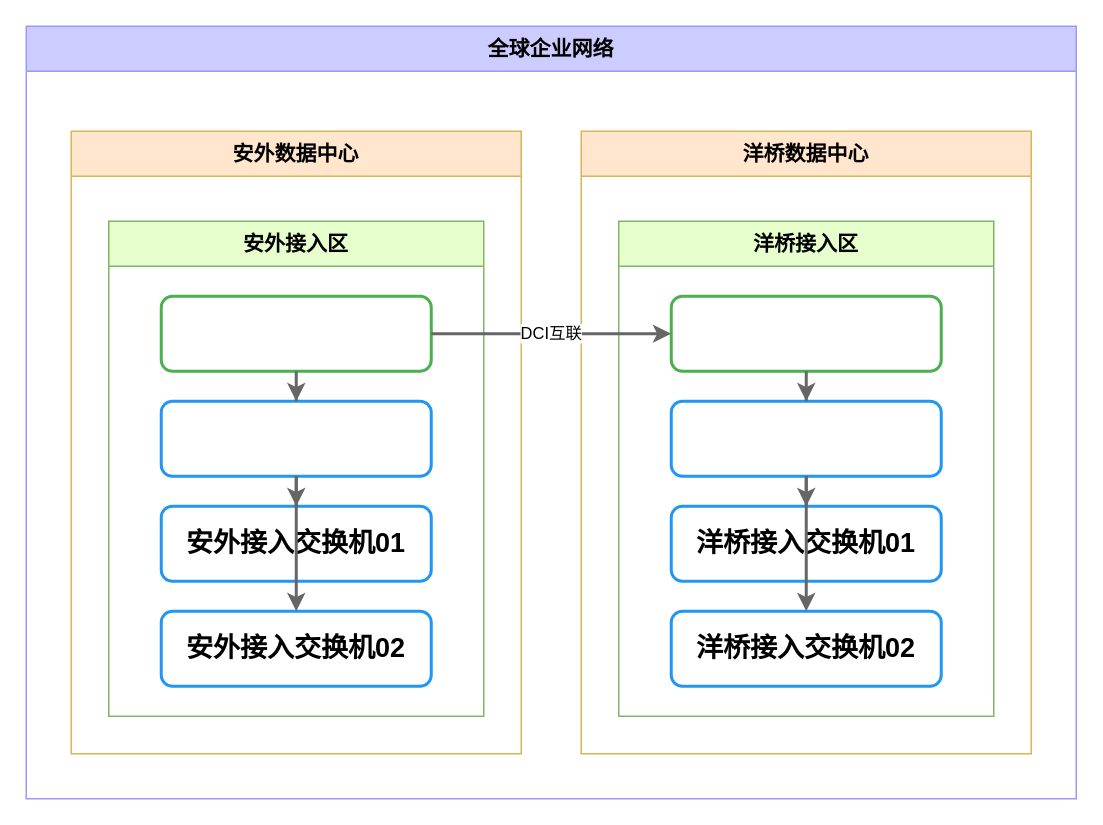
Some shapes in this 1103 by 825 pixel diagram are drawn without their labels. The shapes that lost their labels are listed below. From the top down, each one's centre as x and y in pixels, then its label:
the point at 295,333: 安外核心路由器
the point at 805,333: 洋桥核心路由器
the point at 295,438: 安外汇聚交换机
the point at 805,438: 洋桥汇聚交换机
